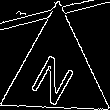N_NE: (29, 40, 83, 104)
